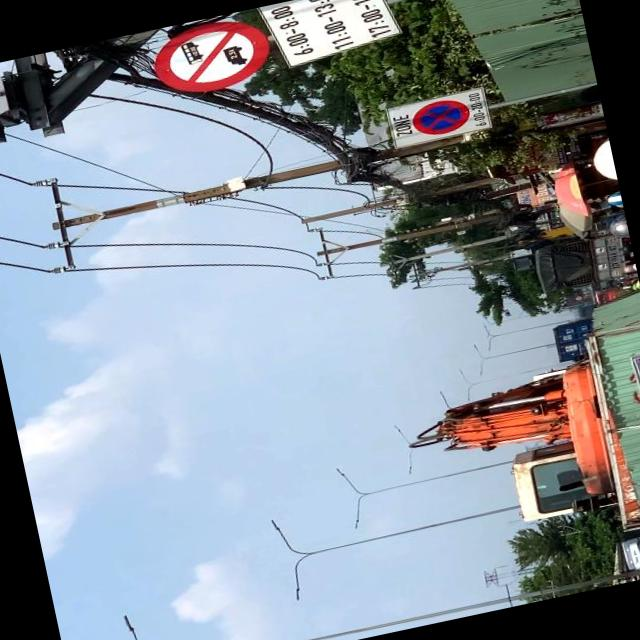P-130: (410, 94, 471, 137)
